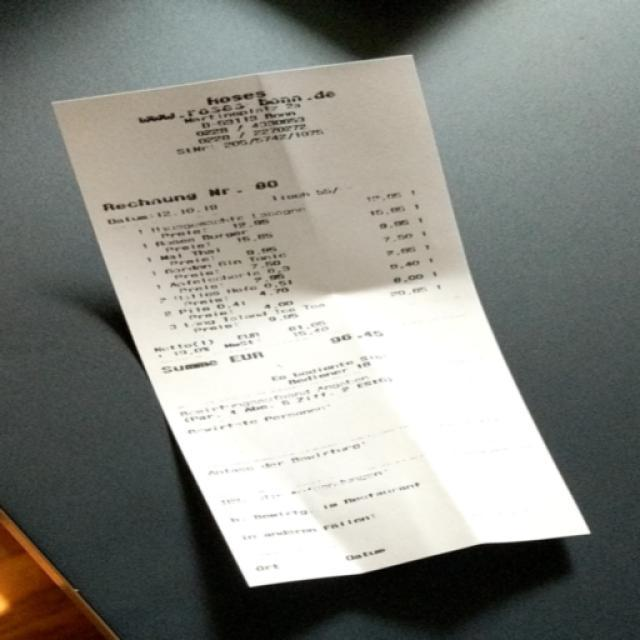document: (56, 56, 589, 585)
